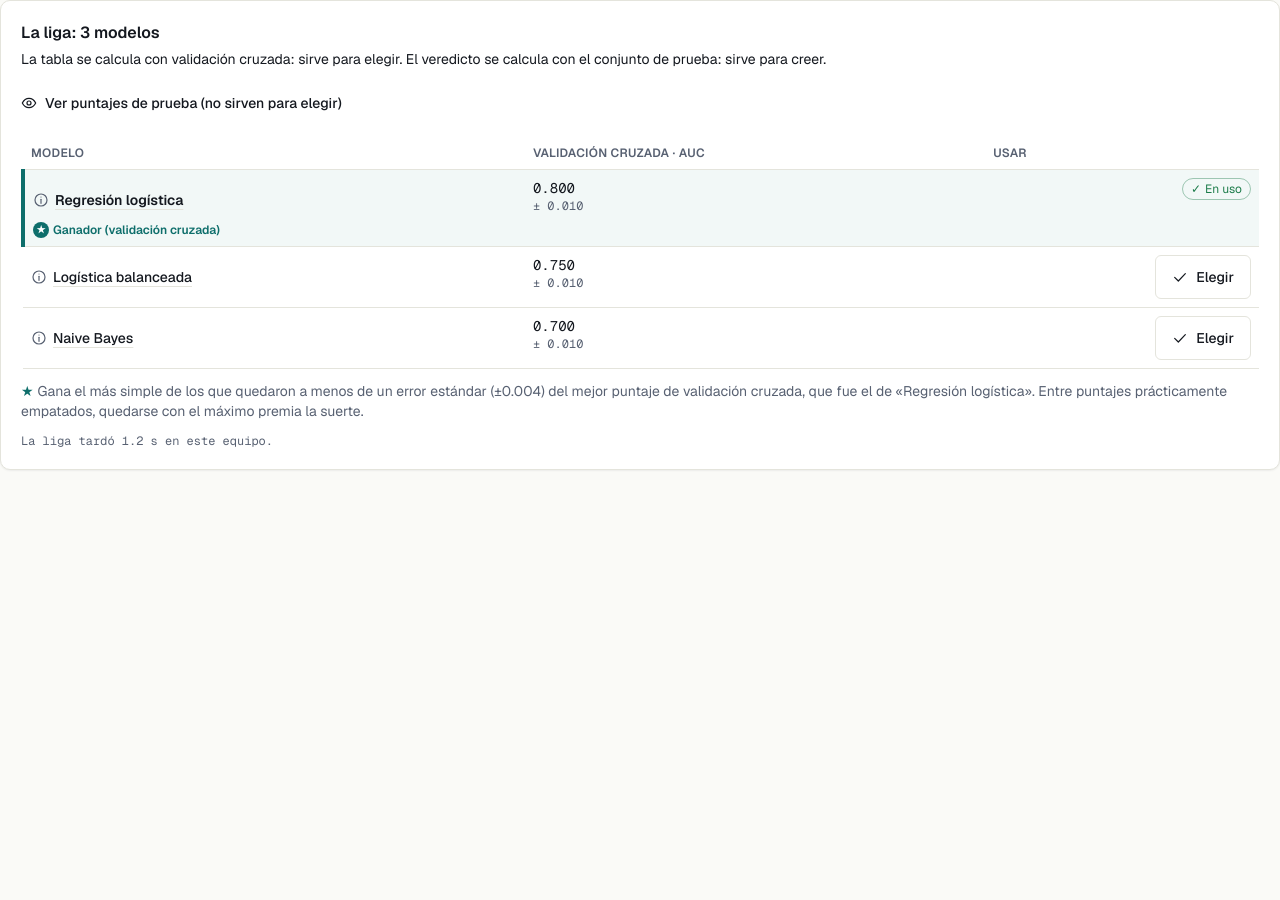
it: FichaModelo (E3) — desde la tabla de la liga › el ganador lo dice con ★ + texto
This screenshot has width=1280, height=900.
Click the button "Regresión logística" at (108, 200), box [33,178,183,222]
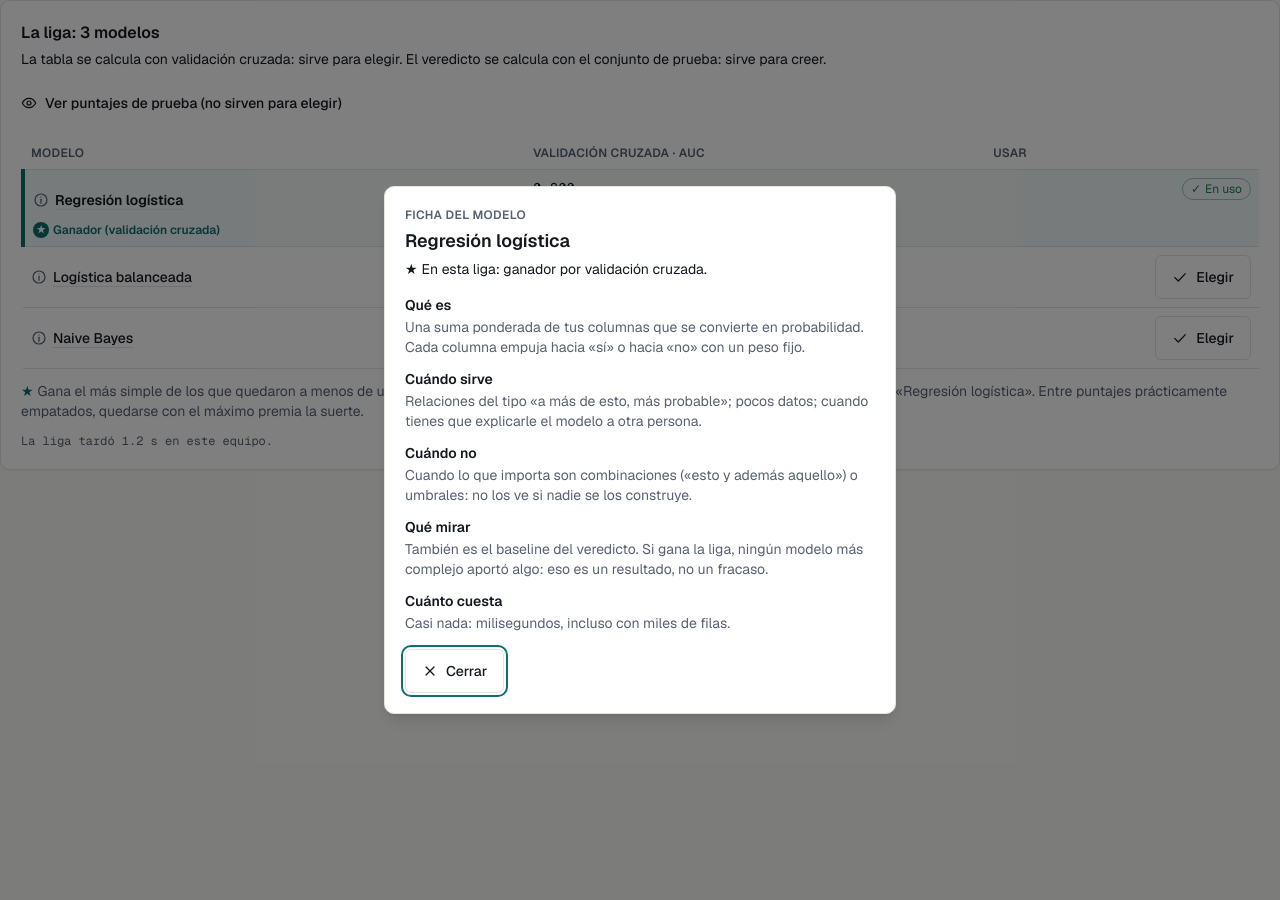
Expected: the text "★En esta liga: ganador por validación cruzada." is shown, [405,260,707,278]
